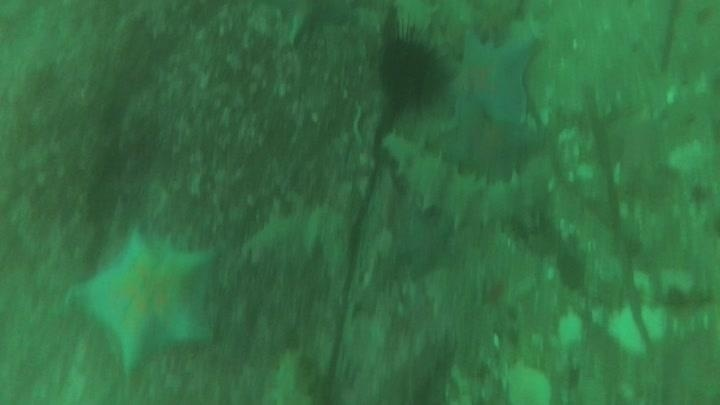echinus: (374, 25, 451, 112)
holothurian: (381, 129, 552, 235), (239, 195, 353, 267), (261, 344, 319, 405)
starfish: (69, 225, 222, 375), (447, 24, 545, 126), (239, 196, 351, 266), (392, 208, 459, 279)
